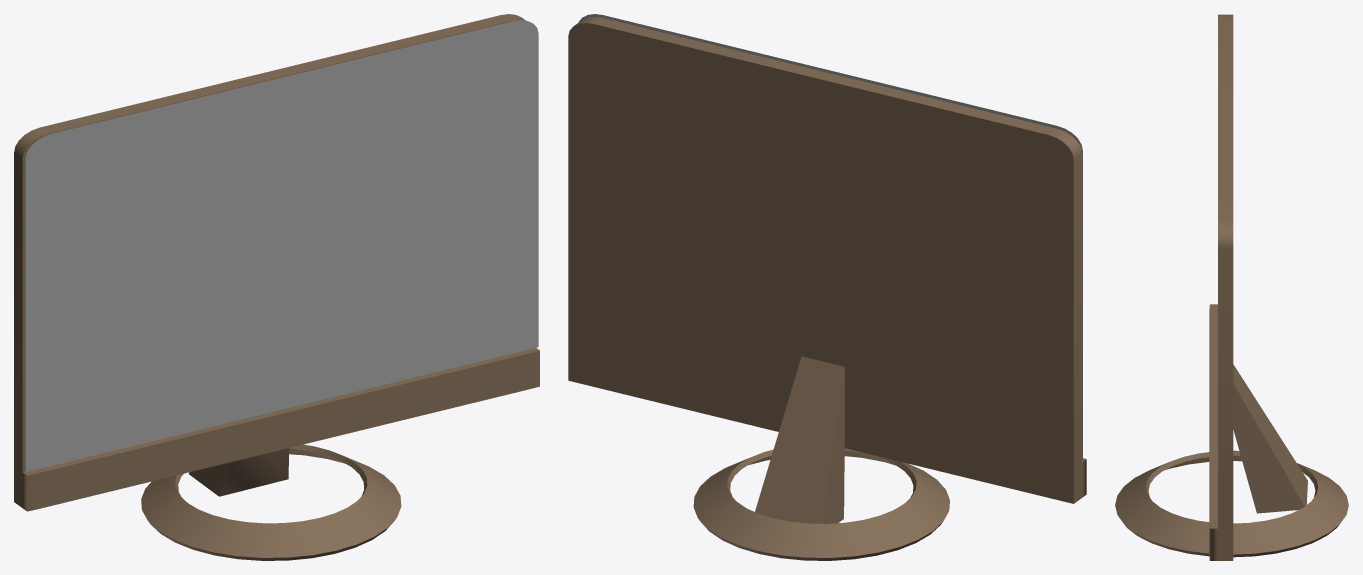
The model's file is Monitor1.fbx.
3 views of the same model, side by side, from view 1: azimuth 30°, elevation 25°; view 2: azimuth 150°, elevation 25°; view 3: azimuth 270°, elevation 25° (orthographic). The views are drawn at different scales.
Visible parts, largest first — view 1: Cube.001, Cube, Circle; view 2: Cube, Circle, Cube.001; view 3: Cube, Circle.
Boxes of the visible parts, x1,y1,x2,y2 form: Cube.001: [25, 20, 538, 471]; Cube: [14, 14, 539, 511]; Circle: [141, 444, 401, 560]; Cube: [568, 17, 1086, 523]; Circle: [693, 448, 949, 560]; Cube.001: [579, 14, 1082, 459]; Cube: [1209, 14, 1307, 560]; Circle: [1115, 450, 1348, 557].
Size of the model in its own units: 56.97 by 46.24 by 25.04.
